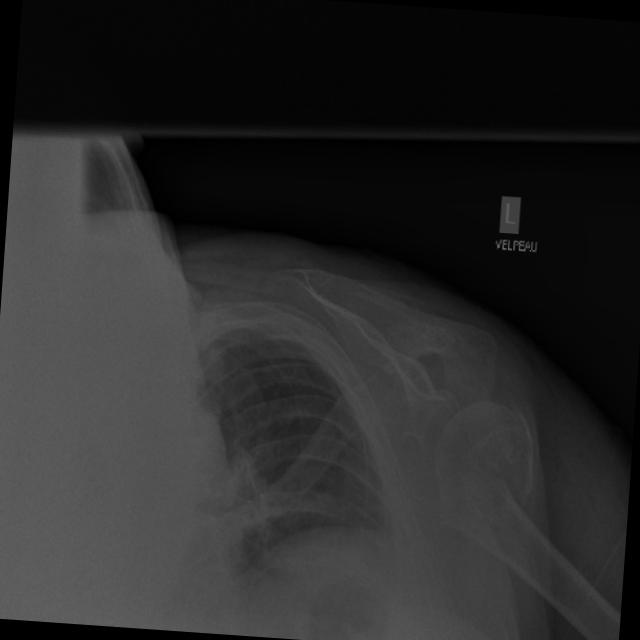shoulder fracture: (474, 371, 576, 477)
